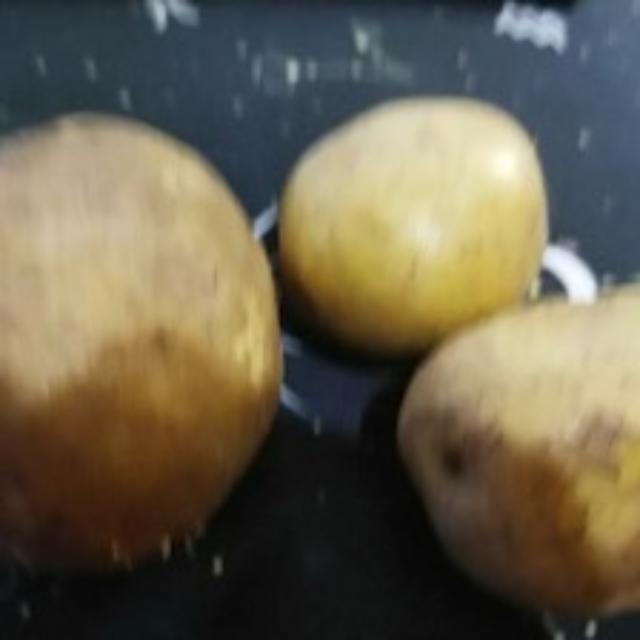Damaged potato: (2, 101, 292, 584), (394, 273, 640, 633)
Potato: (276, 89, 554, 358)
